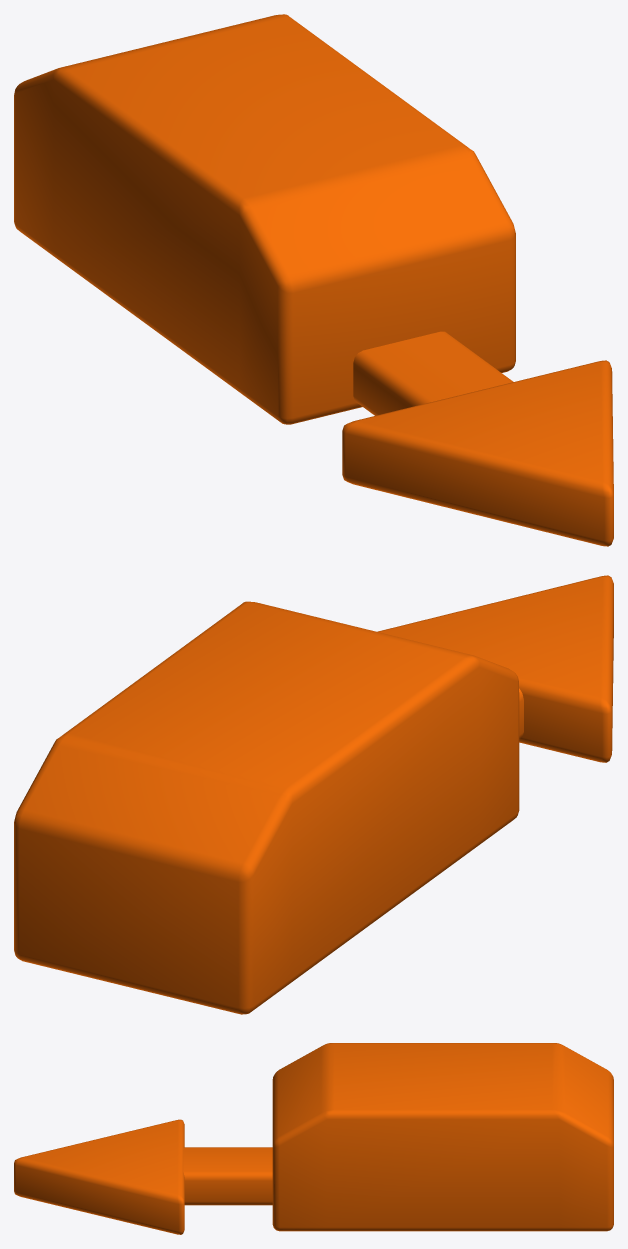
The model's file is spawn_arrow.DAE.
3 renders of one model, top to bottom at view 1: azimuth 30°, elevation 25°; view 2: azimuth 150°, elevation 25°; view 3: azimuth 270°, elevation 25°, orthographic. The views are drawn at different scales.
Visible parts, largest first — view 1: spawn_arrow; view 2: spawn_arrow; view 3: spawn_arrow.
Part boxes in pixels (x1=…): spawn_arrow: x1=14, y1=14, x2=613, y2=546; spawn_arrow: x1=14, y1=575, x2=613, y2=1014; spawn_arrow: x1=14, y1=1043, x2=613, y2=1234.
Size of the model in its own units: 0.7409 by 2.3 by 0.5117.
